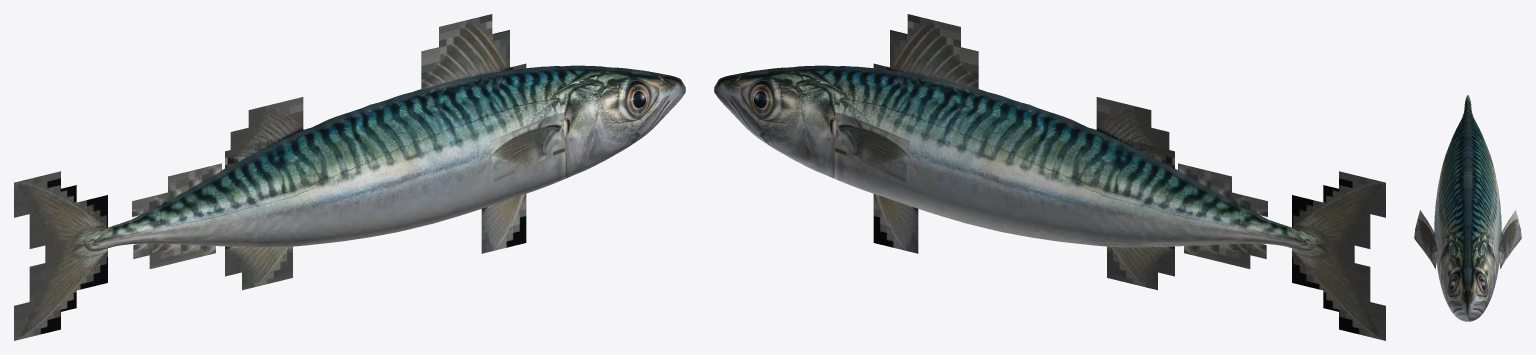
Rendered from real-scomber_scombrus.glb.
The picture shows the model from 3 angles, left to right: view 1: azimuth 30°, elevation 25°; view 2: azimuth 150°, elevation 25°; view 3: azimuth 270°, elevation 25°; orthographic projection. The views are drawn at different scales.
Visible parts, largest first — view 1: scomber_scombrus; view 2: scomber_scombrus; view 3: scomber_scombrus.
Boxes of the visible parts, left/top/right/bottom form: scomber_scombrus: left=14, top=14, right=685, bottom=340; scomber_scombrus: left=714, top=14, right=1385, bottom=340; scomber_scombrus: left=1414, top=95, right=1521, bottom=321.
Bounding box in the file's own units: 0.3005 × 0.1014 × 0.0555.
1 material, 1 textured.
